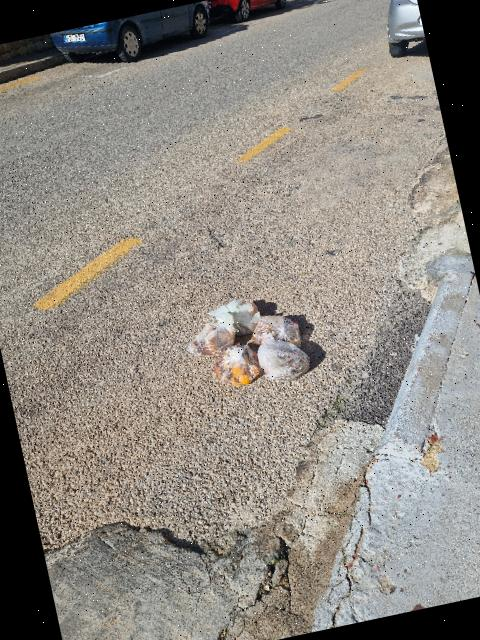Organic -White-: (257, 338, 309, 381), (215, 343, 262, 385), (209, 299, 261, 334), (189, 322, 236, 357), (252, 315, 301, 347)
